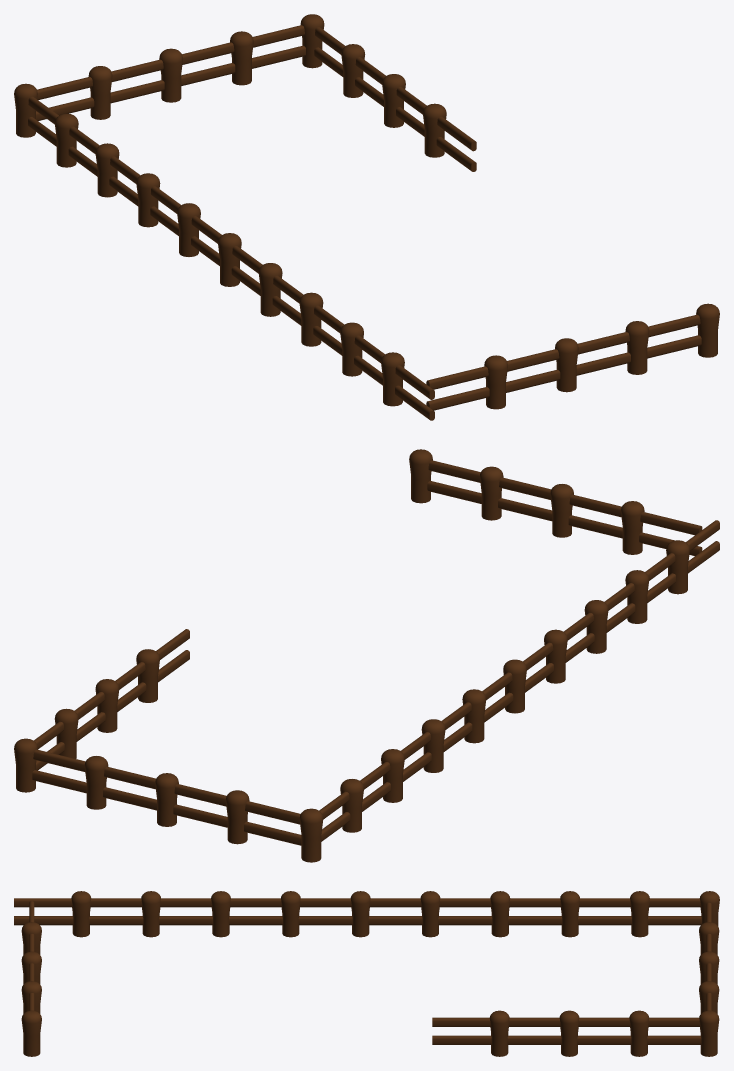
Rendered from Fence.fbx.
The picture shows the model from 3 angles, top to bottom: view 1: azimuth 30°, elevation 25°; view 2: azimuth 150°, elevation 25°; view 3: azimuth 270°, elevation 25°; orthographic projection. The views are drawn at different scales.
Visible parts, largest first — view 1: Fence.010, Fence.001, Fence.009, Fence; view 2: Fence.010, Fence.001, Fence.009, Fence; view 3: Fence.010, Fence, Fence.001, Fence.009.
Part boxes in pixels (x1,y1,x2,y2): Fence.010: (14,83,434,420); Fence.001: (426,303,719,410); Fence.009: (36,14,318,120); Fence: (302,14,476,171); Fence.010: (299,520,719,862); Fence.001: (409,449,702,555); Fence.009: (14,738,301,845); Fence: (14,629,189,792); Fence.010: (14,891,719,937); Fence: (432,1010,719,1056); Fence.001: (21,901,41,1056); Fence.009: (699,902,719,1035).
Bounding box in the file's own units: 4.9 × 0.7217 × 11.4.
